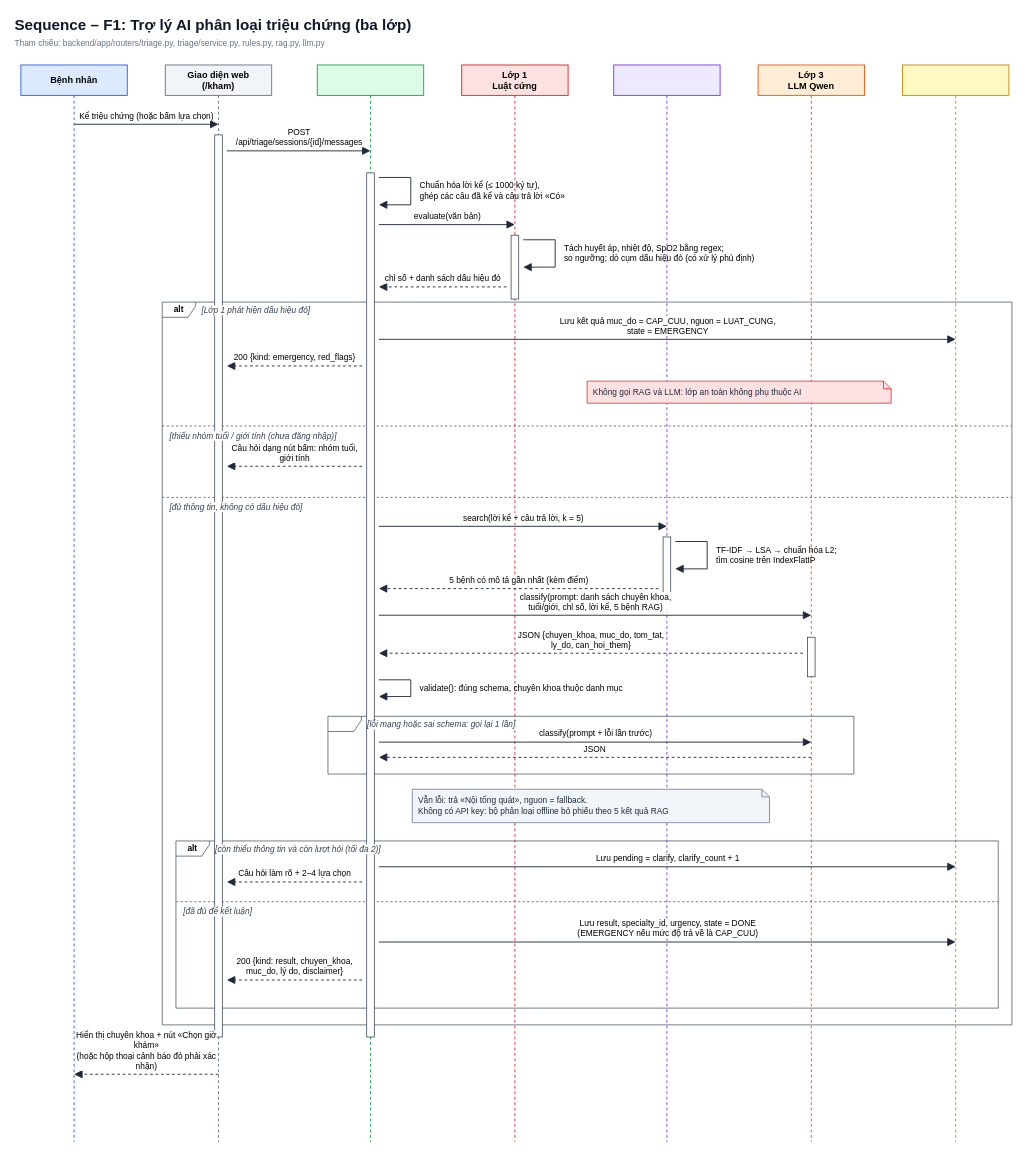
Image size: 1026x1155. Some labels were removed from this diagram. The box of each missing label's shape, as (x1, y1, x2, y2) in pixels:
API FastAPI: (316, 64, 424, 1142)
Lớp 2 RAG – FAISS: (613, 64, 720, 1142)
opt: (327, 716, 854, 774)
PostgreSQL: (902, 64, 1009, 1142)
